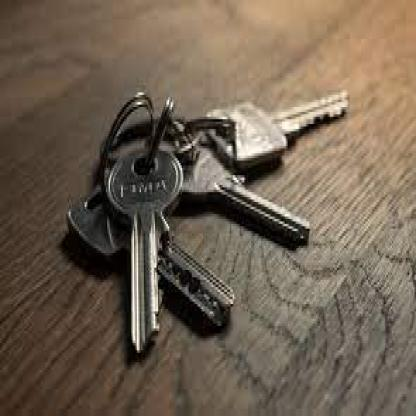key: (75, 188, 227, 336), (170, 130, 310, 232), (118, 154, 180, 349), (206, 98, 355, 156)
